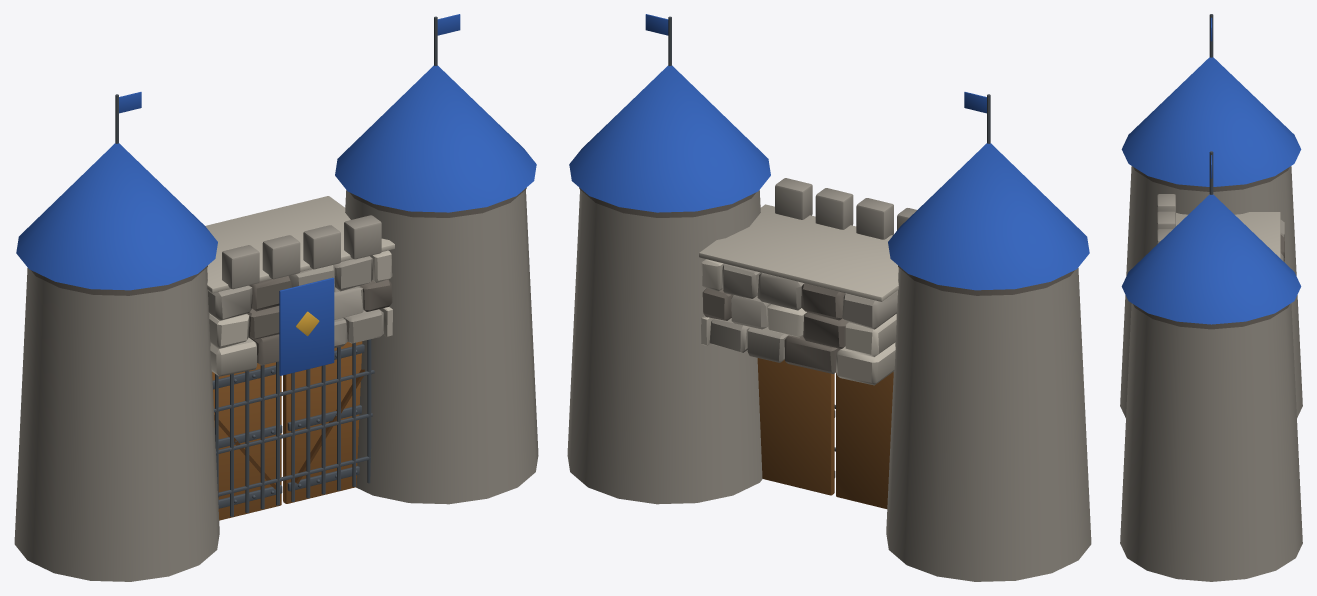
File: brama_4.glb
3 views of the same model, side by side, from view 1: azimuth 30°, elevation 25°; view 2: azimuth 150°, elevation 25°; view 3: azimuth 270°, elevation 25° (orthographic). The views are drawn at different scales.
Visible parts, largest first — view 1: brama_4; view 2: brama_4; view 3: brama_4.
Part boxes in pixels (x1,y1,x2,y2): brama_4: (14,14,538,581); brama_4: (567,14,1091,581); brama_4: (1120,14,1302,581).
Bounding box in the file's own units: 14.69 × 12.5 × 5.29.
